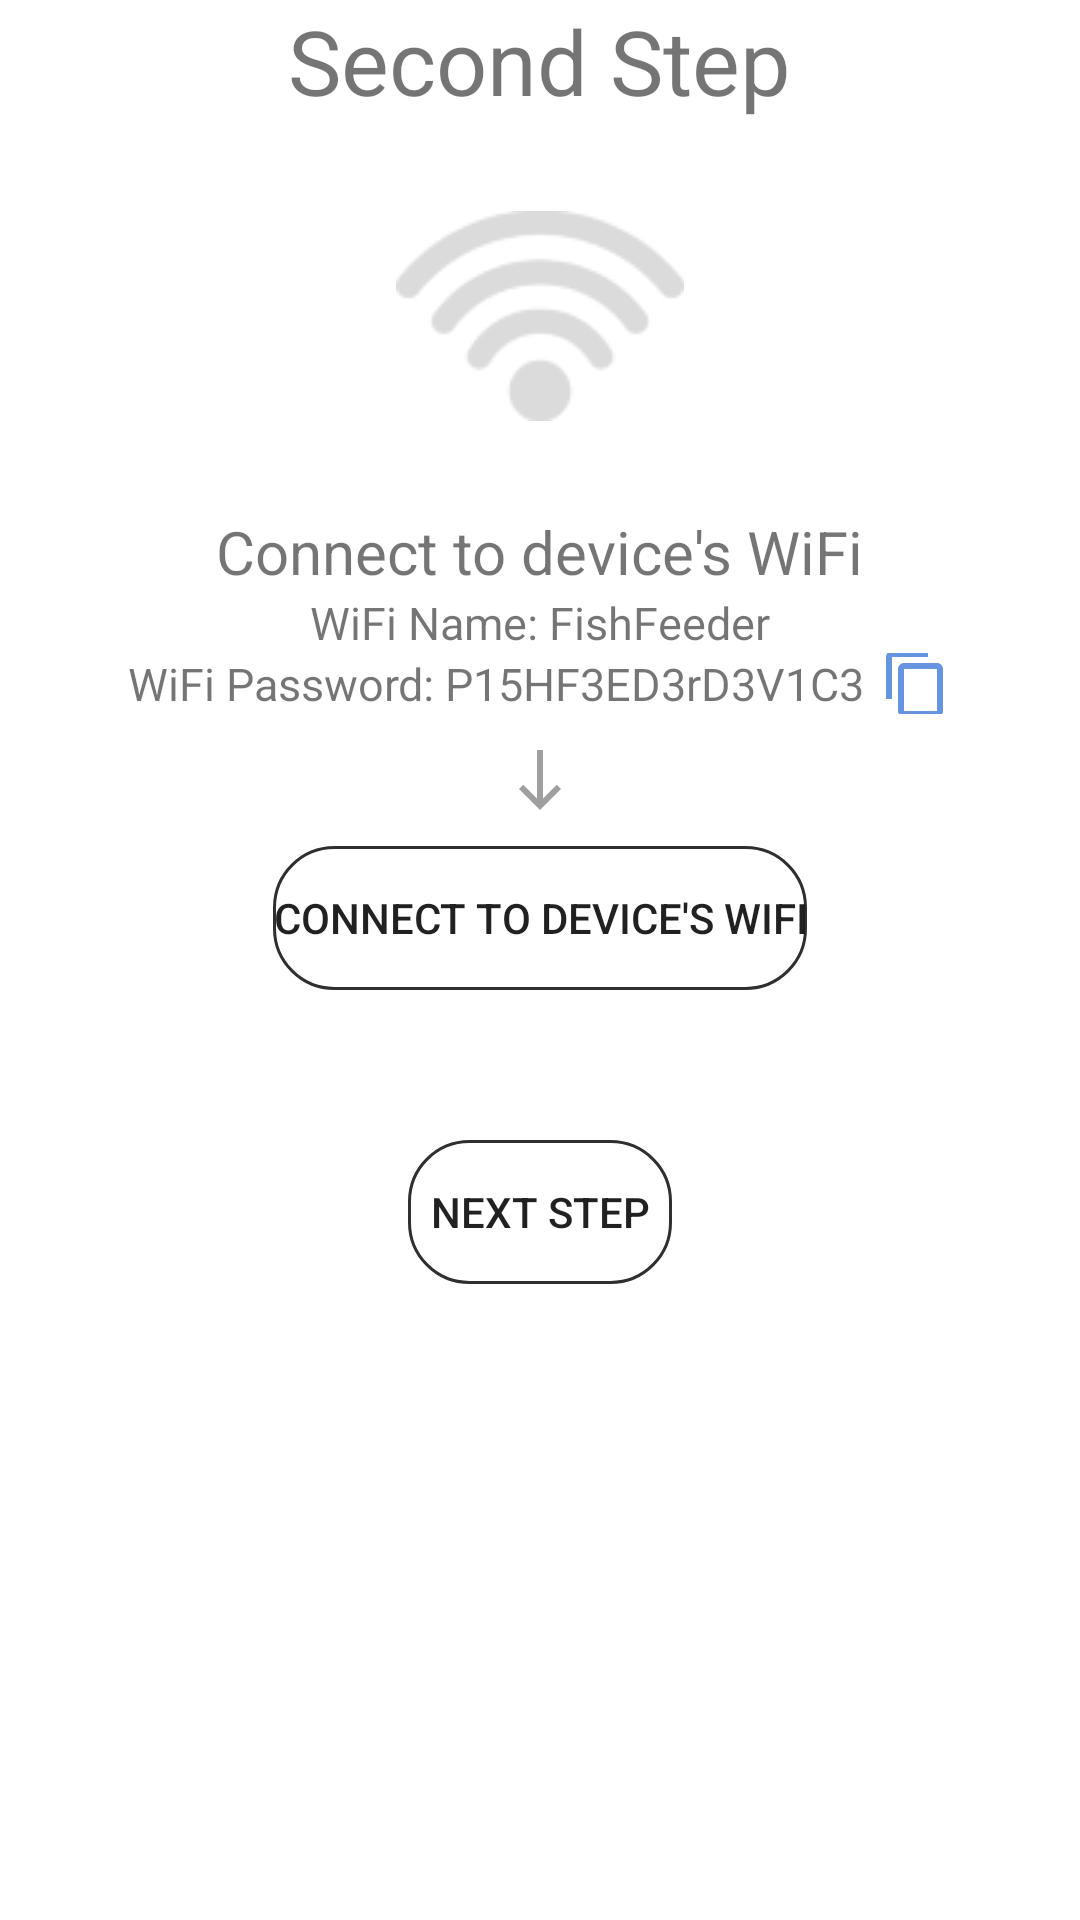

Icons on this 1080px x 1920px Android screen, each with its box as (x1,y1,x2,y2):
south: (519,750,561,810)
wifipairingsmall: (396,211,684,421)
